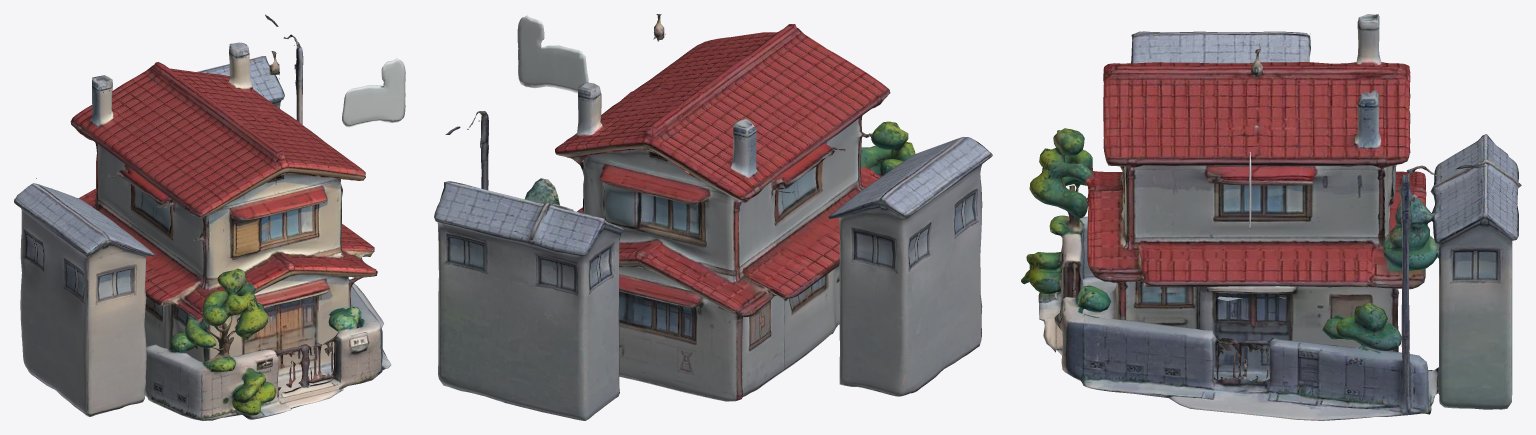
File: house.glb
3 renders of one model, left to right at view 1: azimuth 30°, elevation 25°; view 2: azimuth 150°, elevation 25°; view 3: azimuth 270°, elevation 25°, orthographic. The views are drawn at different scales.
Visible parts, largest first — view 1: tripo_node_74acc040-fbb2-4f3b-a625-f9916c93ac02; view 2: tripo_node_74acc040-fbb2-4f3b-a625-f9916c93ac02; view 3: tripo_node_74acc040-fbb2-4f3b-a625-f9916c93ac02.
Boxes of the visible parts, bbox=[...] form: tripo_node_74acc040-fbb2-4f3b-a625-f9916c93ac02: bbox=[14, 14, 405, 420]; tripo_node_74acc040-fbb2-4f3b-a625-f9916c93ac02: bbox=[434, 14, 992, 420]; tripo_node_74acc040-fbb2-4f3b-a625-f9916c93ac02: bbox=[1021, 14, 1521, 420].
Bounding box in the file's own units: 0.9239 × 0.6499 × 0.936.
Materials: 1 (1 with a texture image).
